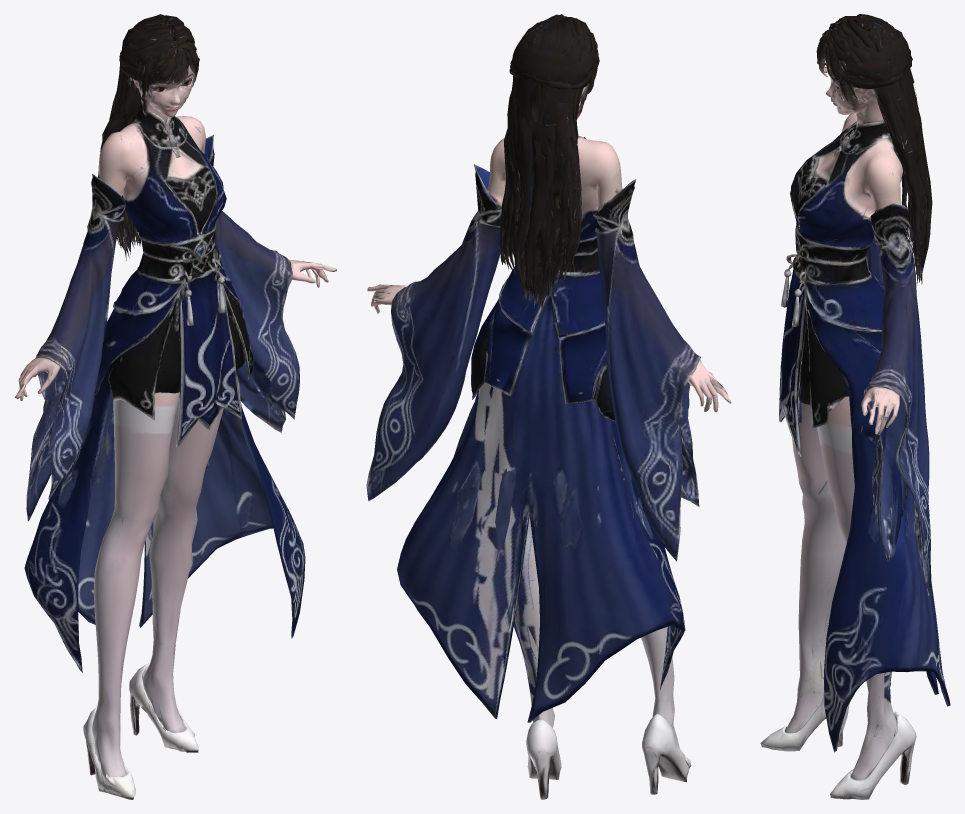
Rendered from Mizu78.glb.
The picture shows the model from 3 angles, left to right: view 1: azimuth 30°, elevation 25°; view 2: azimuth 150°, elevation 25°; view 3: azimuth 270°, elevation 25°; orthographic projection. The views are drawn at different scales.
Bounding box in the file's own units: 0.458 × 0.9507 × 0.2134.
1 material, 1 textured.
